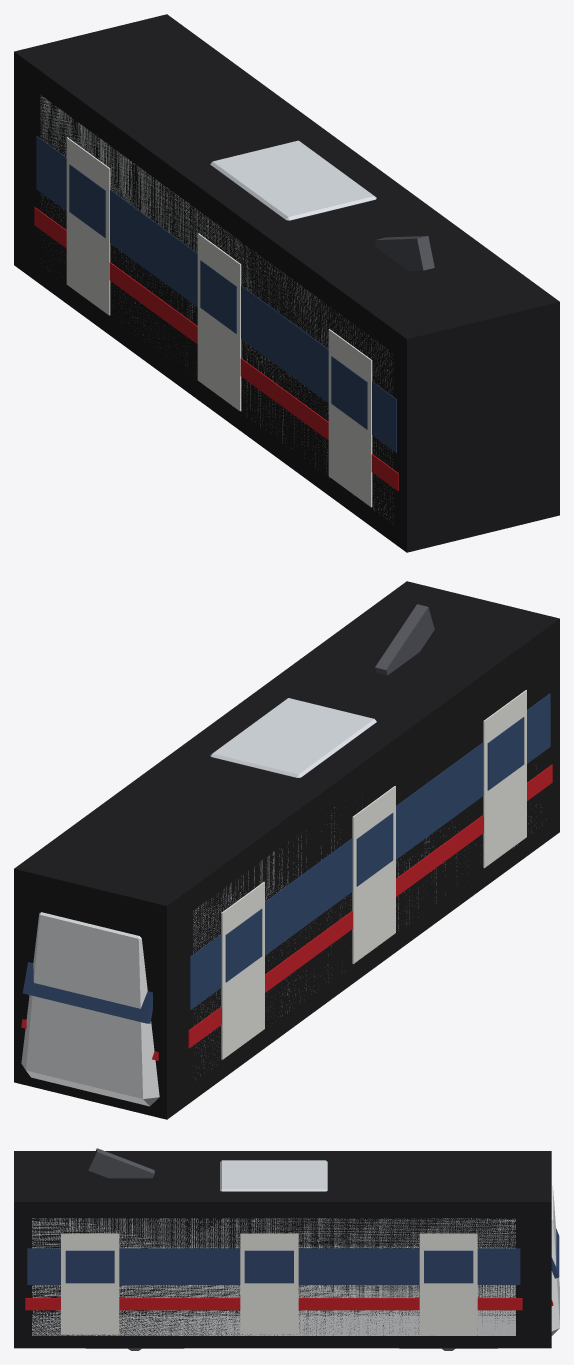
File: env_bf_lrt_car.fbx
The picture shows the model from 3 angles, top to bottom: view 1: azimuth 30°, elevation 25°; view 2: azimuth 150°, elevation 25°; view 3: azimuth 270°, elevation 25°; orthographic projection. The views are drawn at different scales.
Parts seen in each view (by area): view 1: COL_env_bf_lrt_car, env_bf_lrt_car_geo_LOD0; view 2: COL_env_bf_lrt_car, env_bf_lrt_car_geo_LOD0; view 3: COL_env_bf_lrt_car, env_bf_lrt_car_geo_LOD0.
Boxes of the visible parts, bbox=[...] form: COL_env_bf_lrt_car: bbox=[14, 14, 559, 552]; env_bf_lrt_car_geo_LOD0: bbox=[34, 95, 434, 524]; COL_env_bf_lrt_car: bbox=[14, 581, 559, 1119]; env_bf_lrt_car_geo_LOD0: bbox=[21, 604, 552, 1106]; COL_env_bf_lrt_car: bbox=[14, 1151, 551, 1348]; env_bf_lrt_car_geo_LOD0: bbox=[25, 1148, 559, 1350].
Size of what is drawn, in the model's own units: 2.77 by 4.5 by 12.19.
